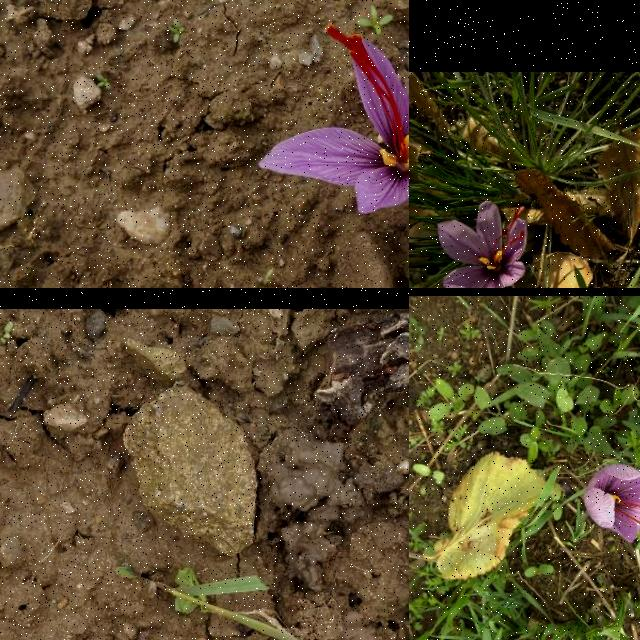flower: (258, 0, 409, 226), (438, 200, 528, 288), (584, 463, 640, 545)
